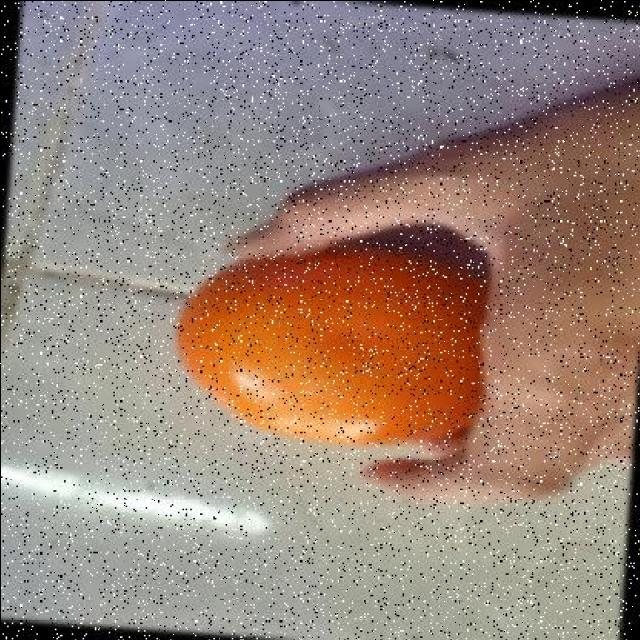Orange: (173, 243, 490, 457)
